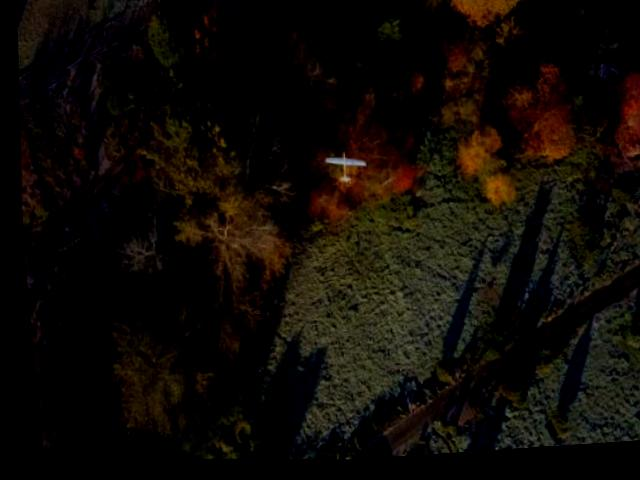uav: (315, 146, 371, 194)
